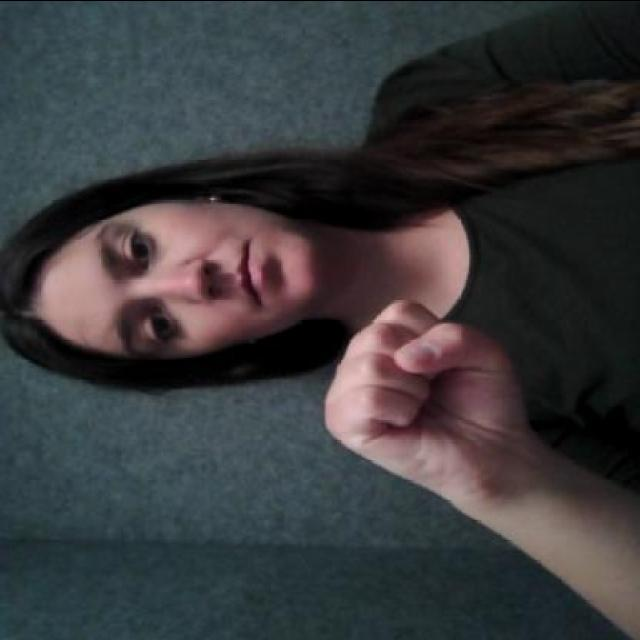Rock: (314, 300, 530, 484)
